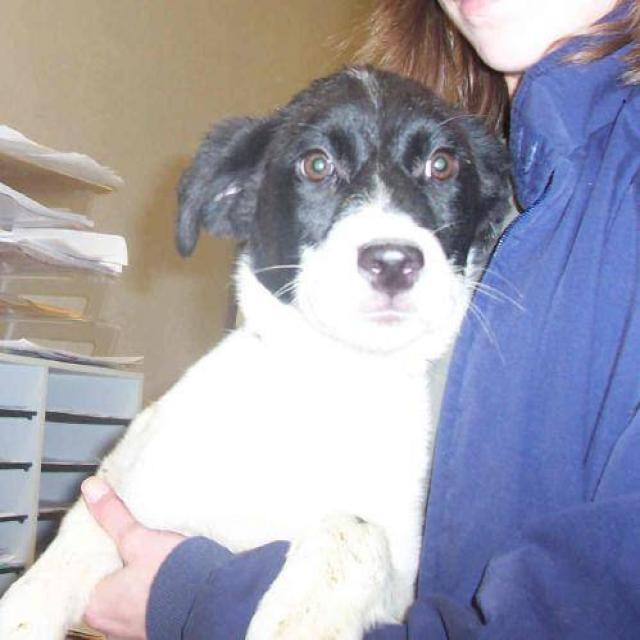dog: (0, 60, 525, 639)
